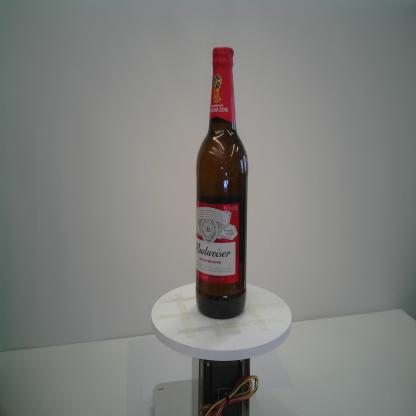Alcohol: (195, 45, 249, 320)
